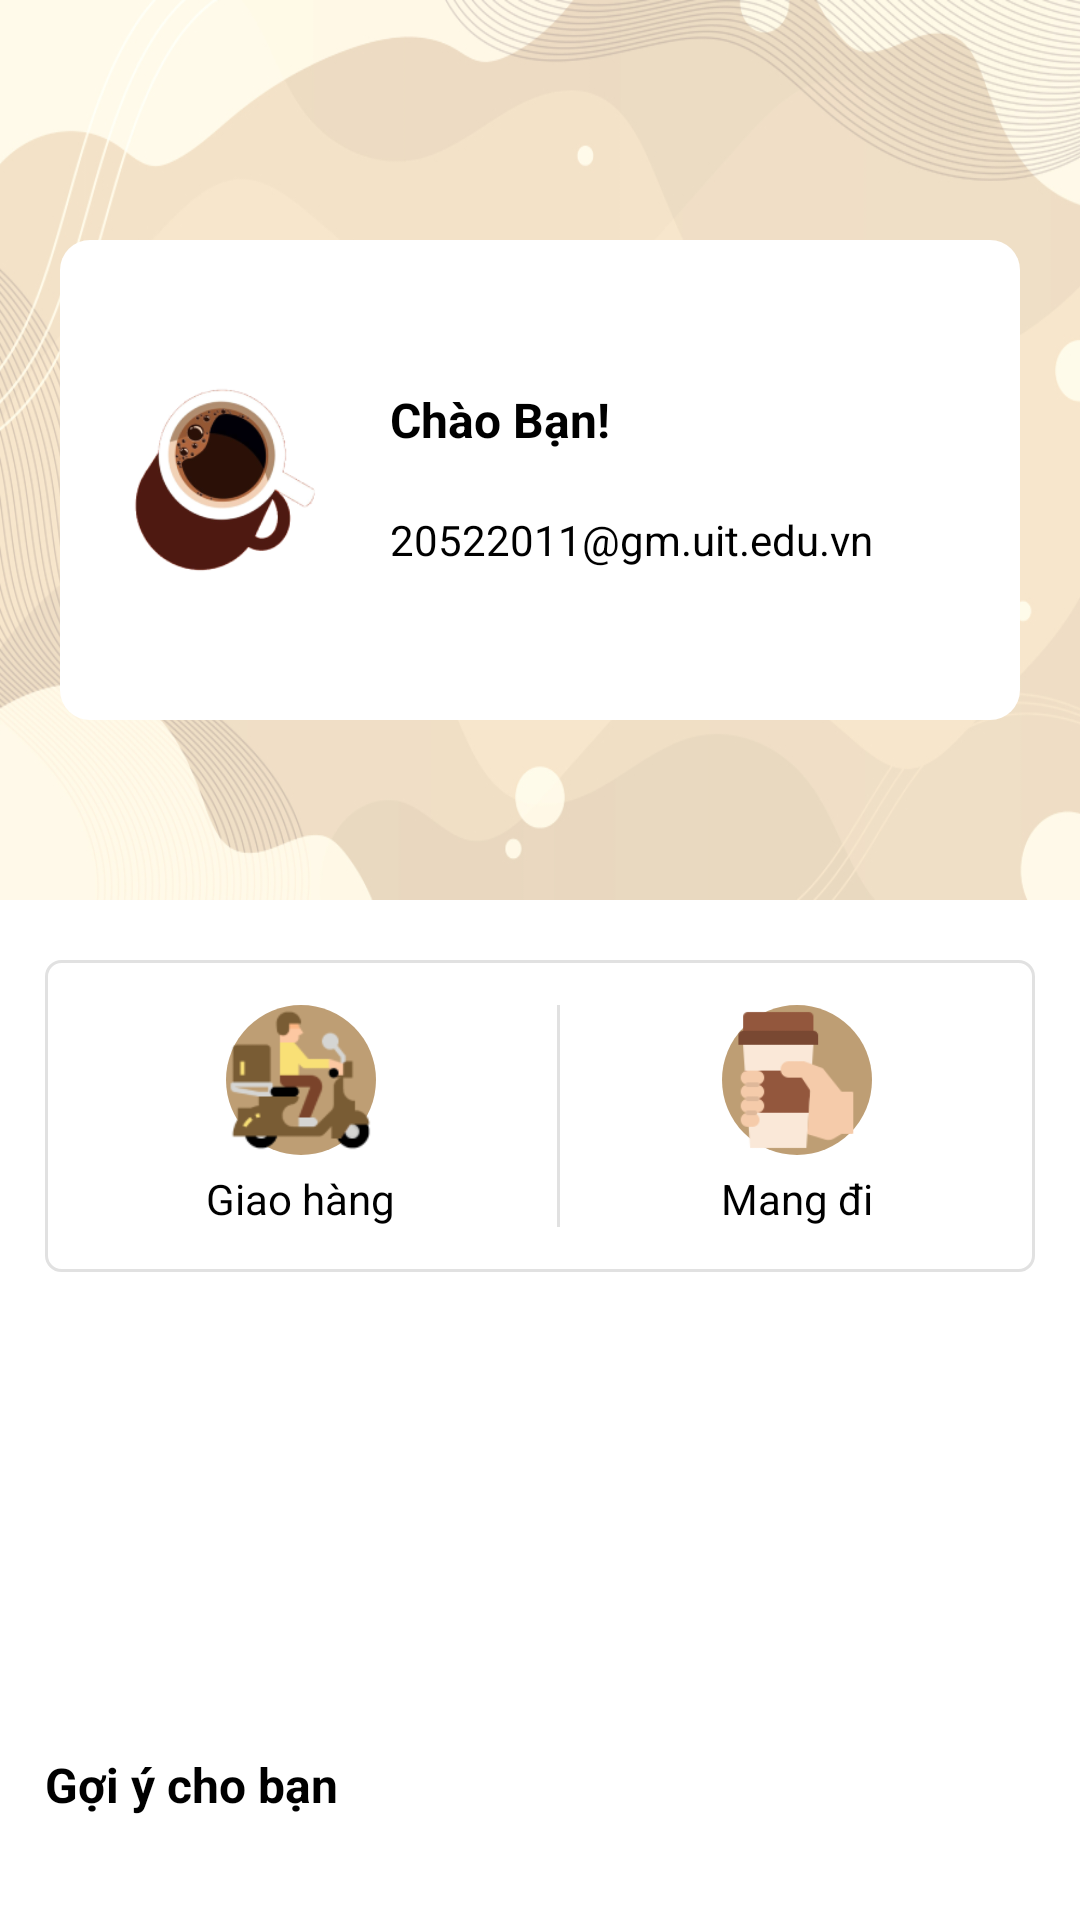

Screen size 1080x1920. Icon name, then its box in pixels as {"left": x1, "top": y1, "right": x2, "bottom": y2}:
home cafe: {"left": 135, "top": 390, "right": 315, "bottom": 571}
